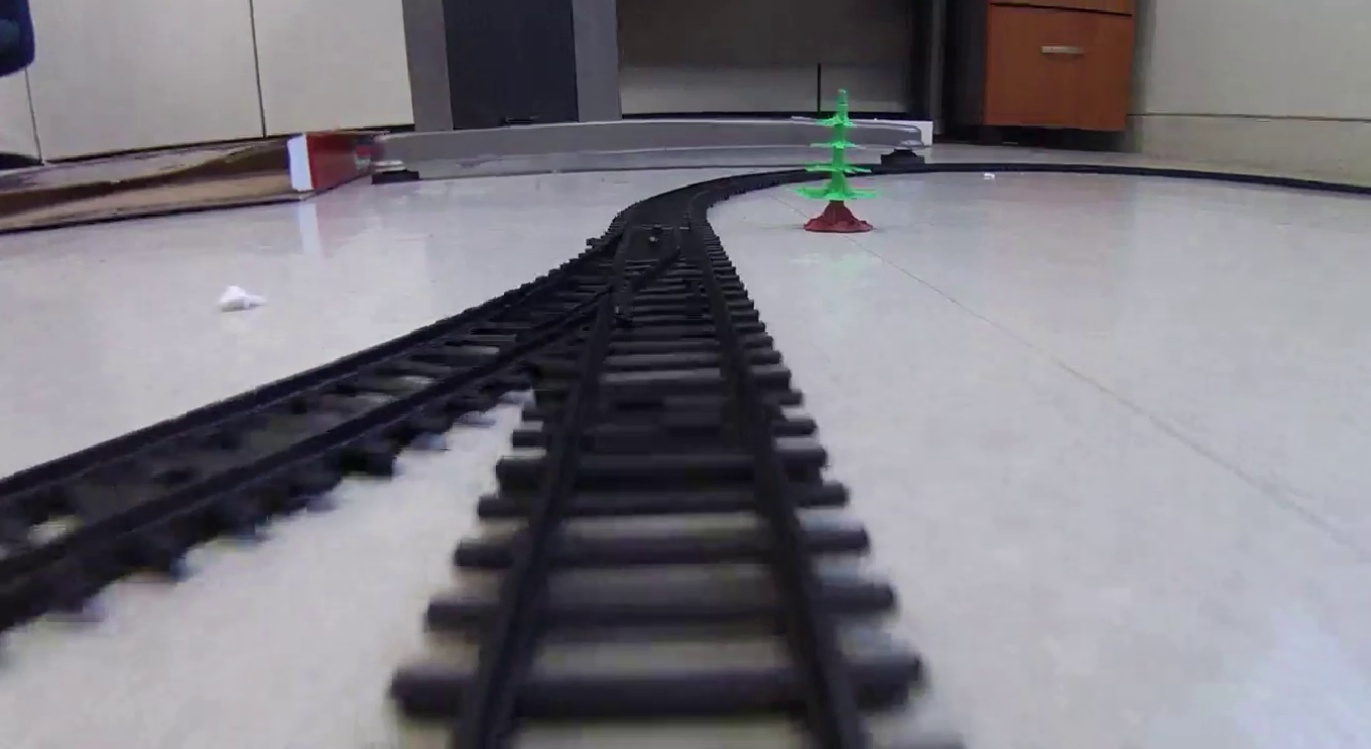tree: (788, 90, 881, 233)
